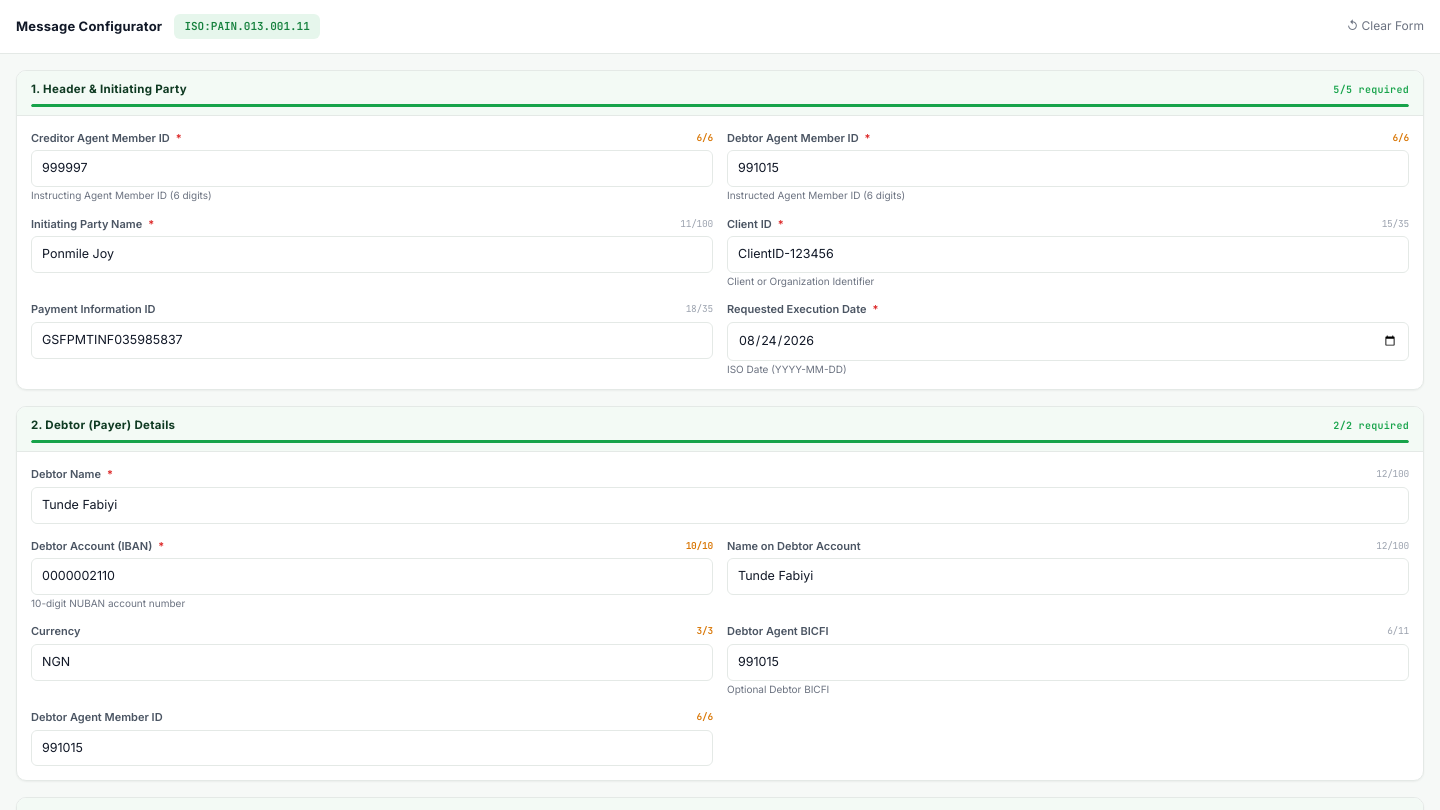
it: MessageConfigurator Component (react-hook-form + zod) › shows validation warning summary when required fields are missing on submit
// Clear form to make required fields empty
Click the button "↺ Clear Form": [1385, 26] box [1347,17,1424,35]
(page scrolled)
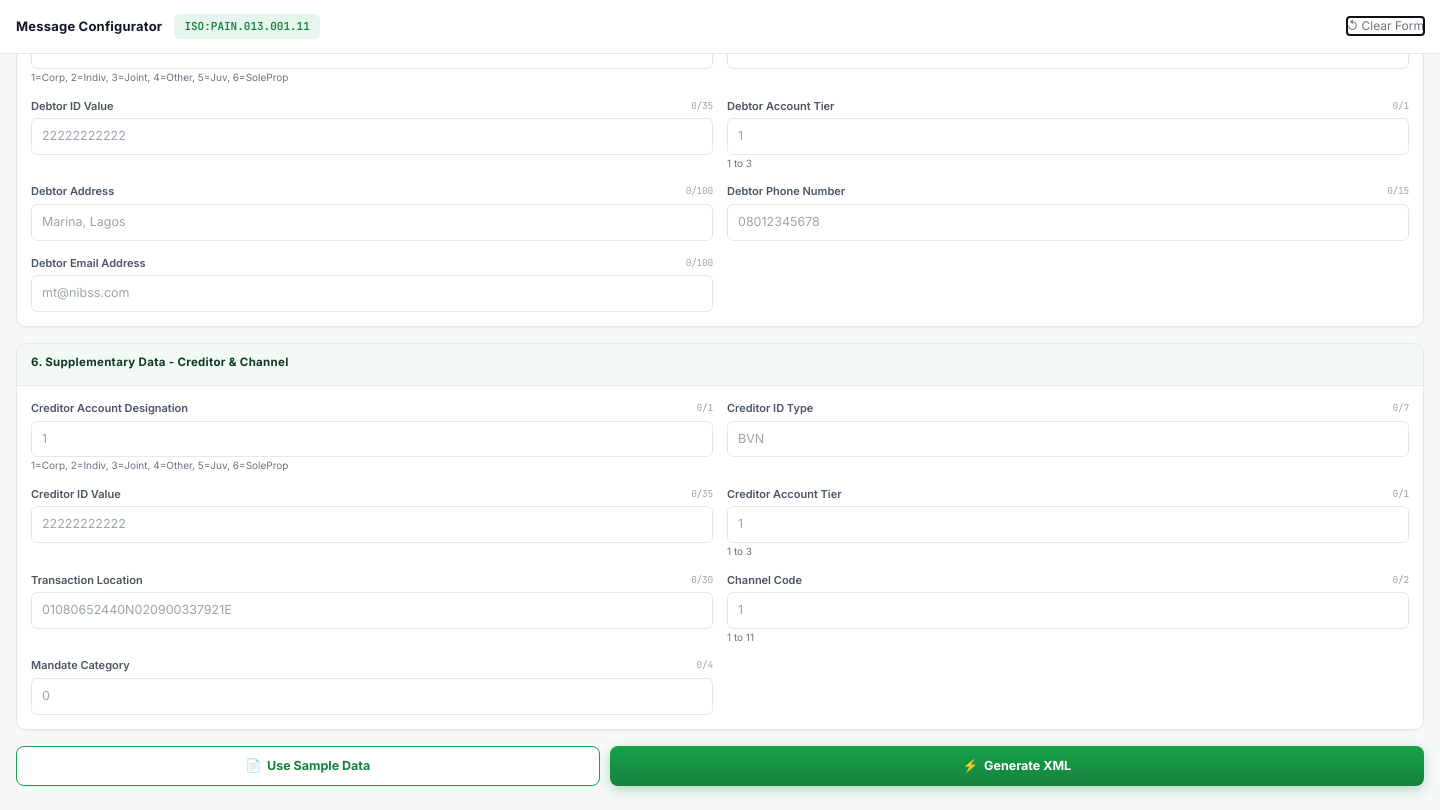
// Attempt to submit empty form
Click the button "⚡ Generate XML": [1017, 766] box [610,746,1424,786]
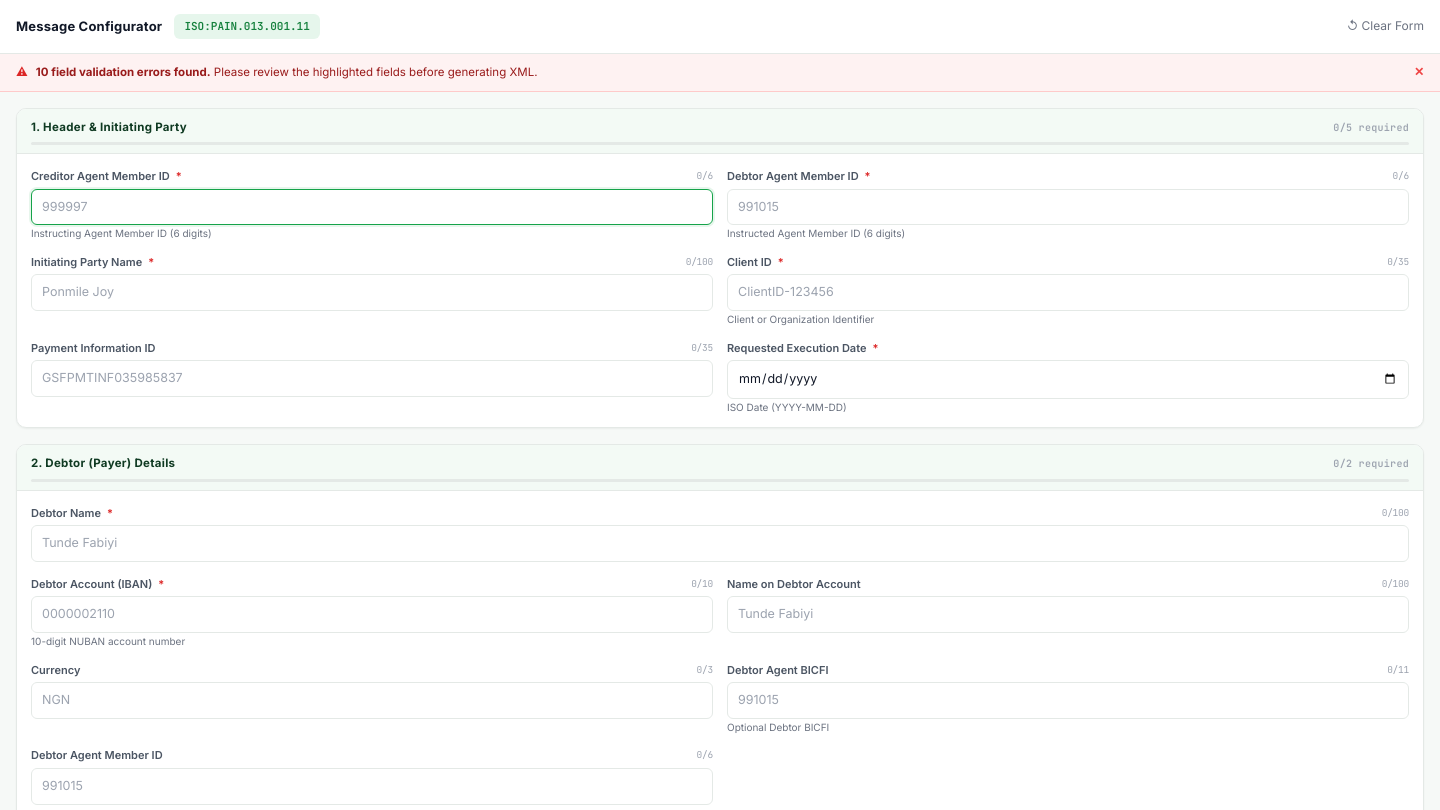
Now the text "10 field validation errors found." is shown, box [36,64,211,78]
